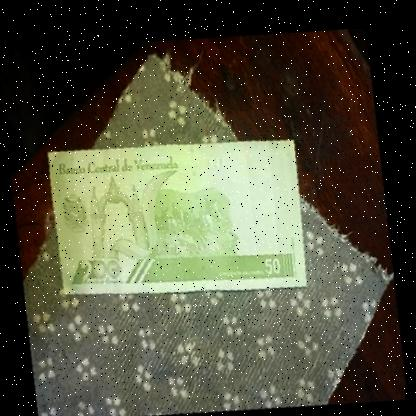fifty-back-vef: (44, 118, 312, 308)
